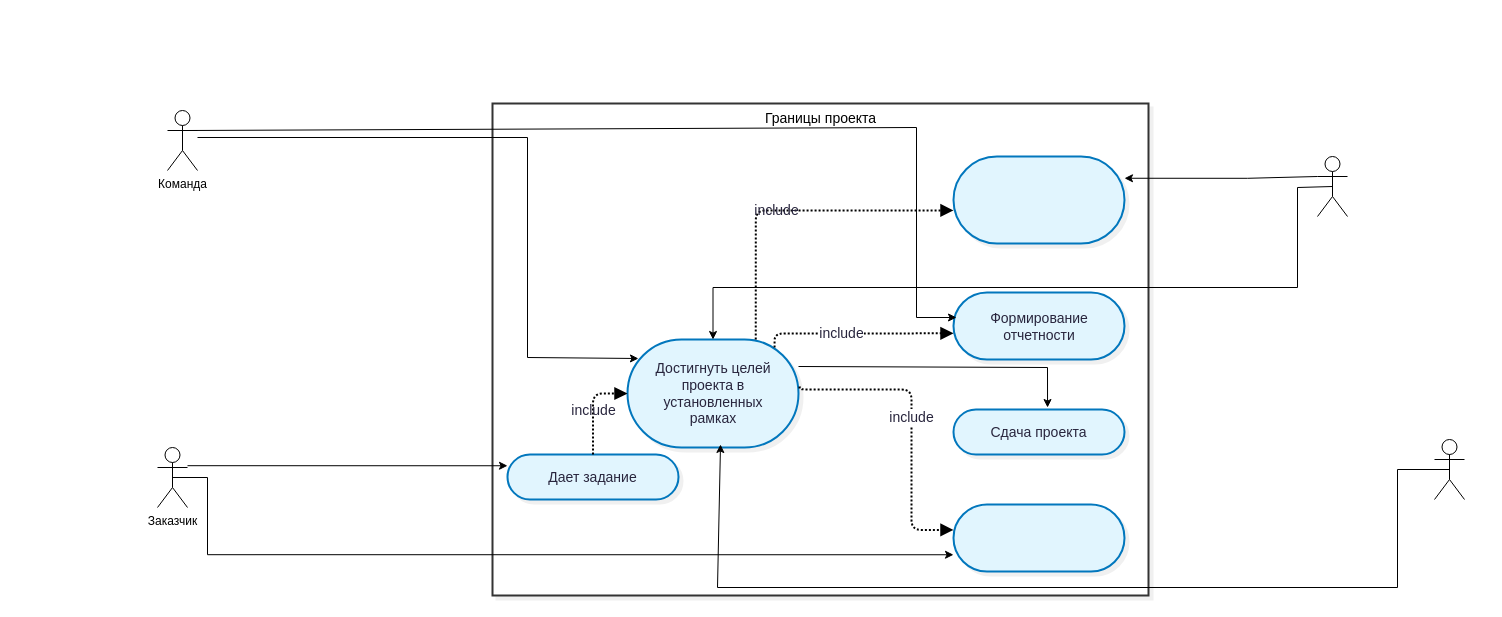
The diagram is 1502 pixels wide and 617 high, and some of its shapes have lost their labels. The shapes that lost their labels are listed below. From the top down, each one's centre as x and y in pixels, then its label:
At (1040,201): "Обеспечить качество и содержание".
At (1332,186): "ГОСТ".
At (1449,469): "База данных".
At (1040,539): "Учесть требования и бюджет".
